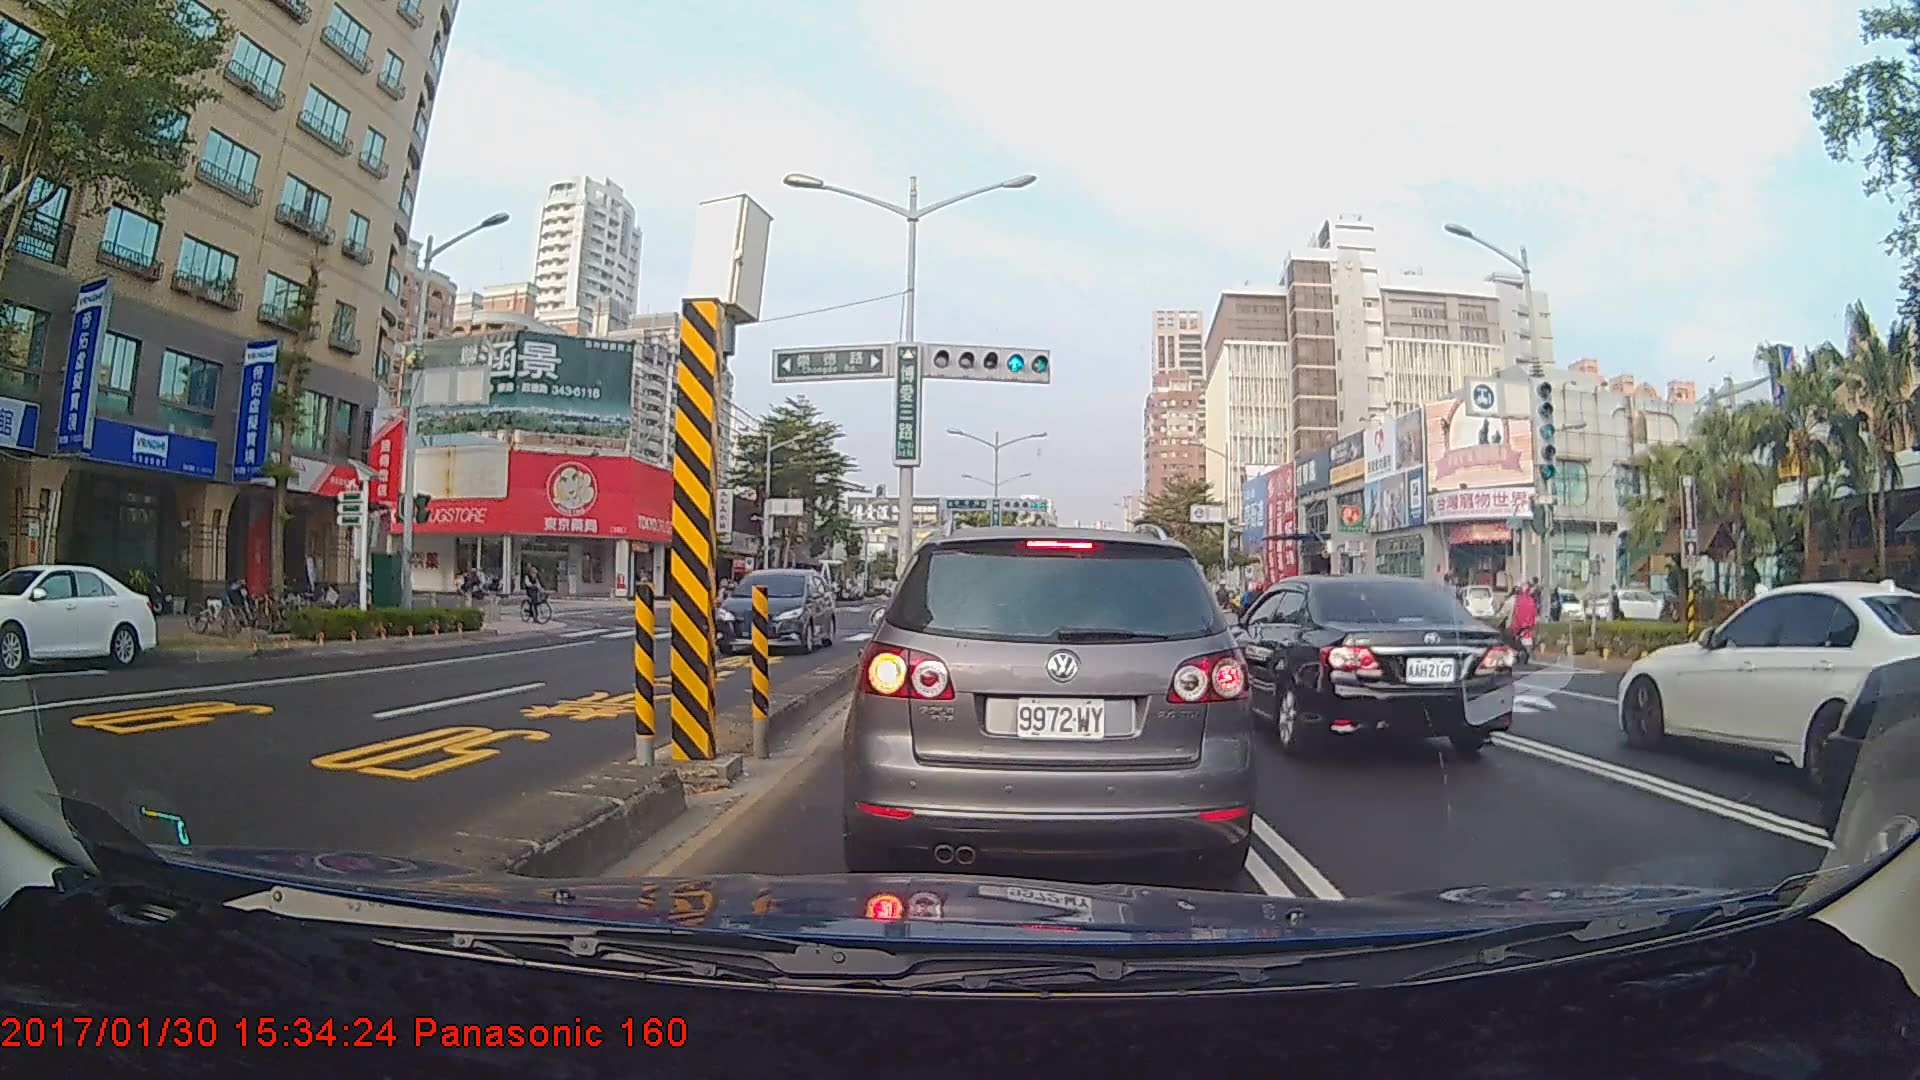pedestrian: (1602, 581, 1623, 640)
rider: (518, 559, 561, 629), (1244, 581, 1290, 643), (455, 563, 497, 603)
vehicle: (853, 523, 1249, 880), (1193, 572, 1515, 763), (1616, 582, 1920, 777), (0, 561, 157, 671), (712, 566, 838, 655)
